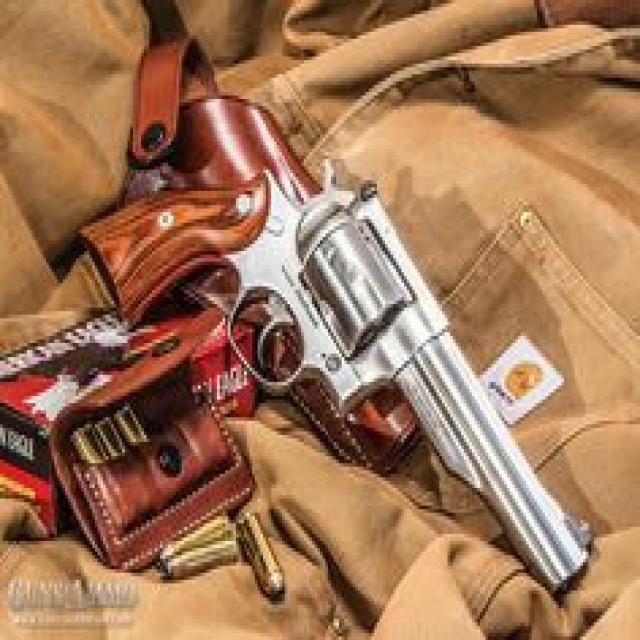revolver: (71, 49, 608, 590)
